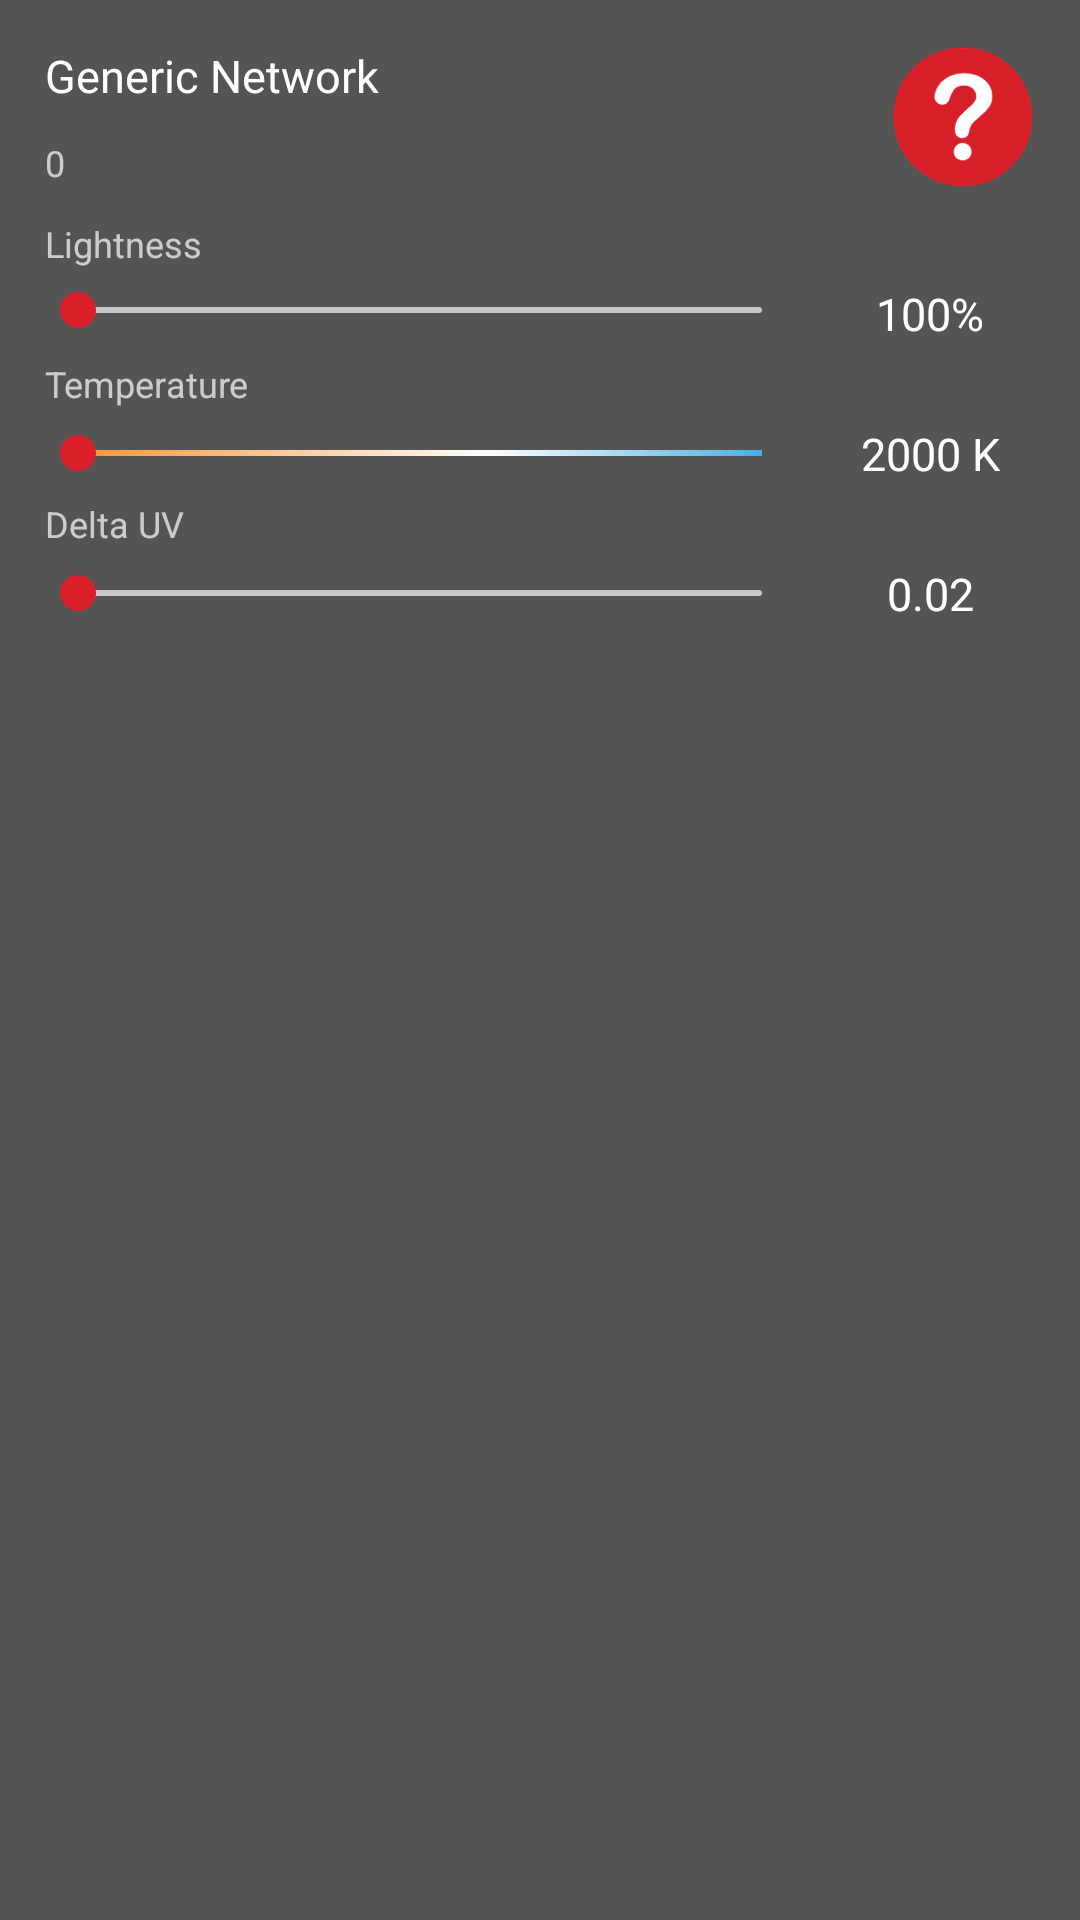

Icon bounding boxes for this 1080 x 1920 phone screenshot, format (x1, y1, x2, y2):
unknown: (893, 47, 1033, 187)
